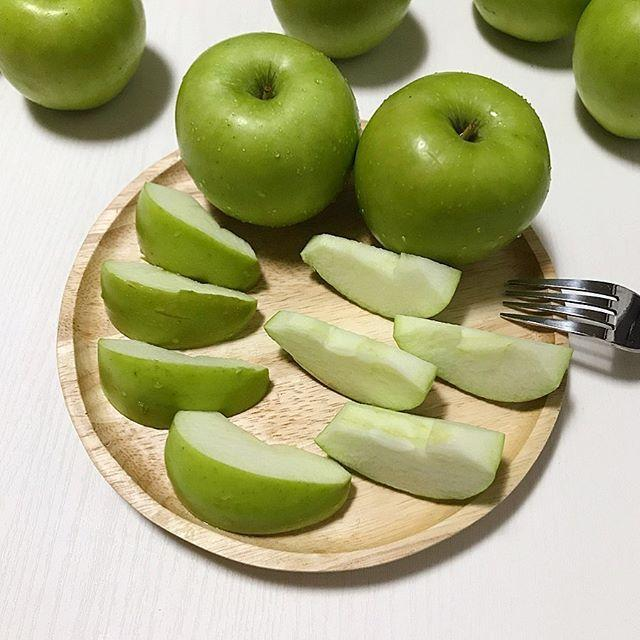apple: (355, 72, 549, 264), (175, 33, 358, 226), (164, 411, 350, 533), (315, 402, 504, 499), (264, 310, 435, 409), (0, 0, 145, 109), (98, 338, 268, 427), (394, 316, 571, 401), (101, 260, 256, 348), (301, 234, 460, 317), (136, 183, 259, 290), (573, 0, 639, 138), (271, 0, 409, 58), (474, 0, 588, 41)
